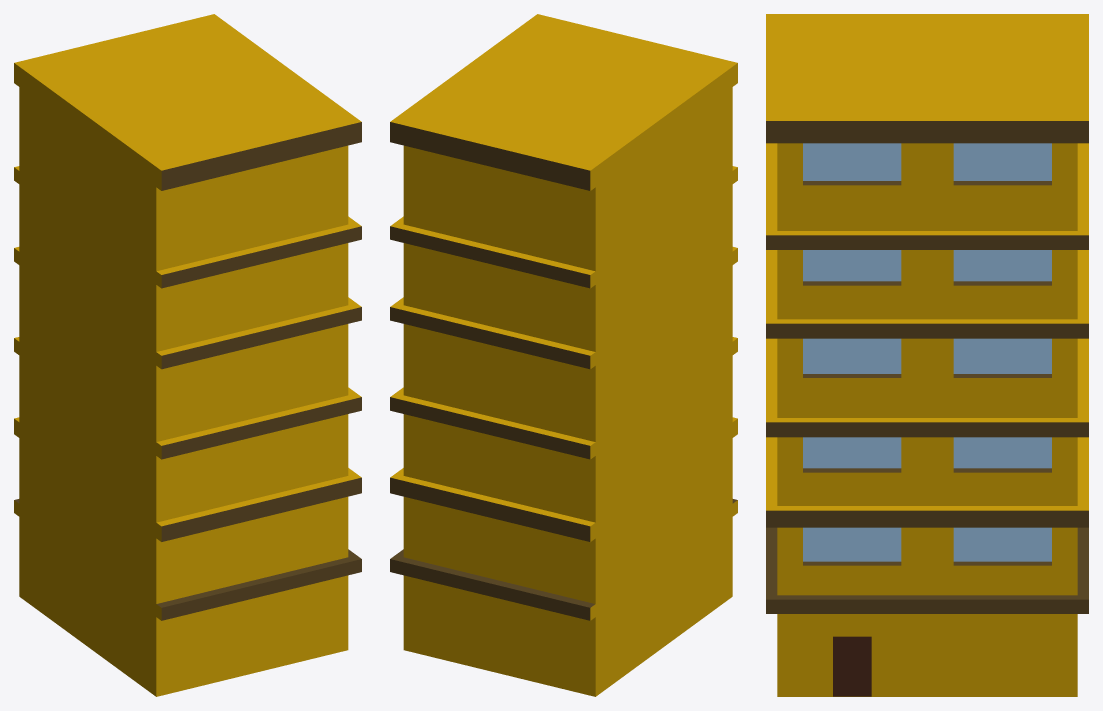
Rendered from yellow building 2.fbx.
3 renders of one model, left to right at view 1: azimuth 30°, elevation 25°; view 2: azimuth 150°, elevation 25°; view 3: azimuth 270°, elevation 25°, orthographic. The views are drawn at different scales.
Parts seen in each view (by area): view 1: Cube; view 2: Cube; view 3: Cube.
Part boxes in pixels (x1,y1,x2,y2): Cube: (14,14,361,696); Cube: (390,14,737,696); Cube: (766,14,1088,696).
Size of the model in its own units: 209 by 527 by 266.
